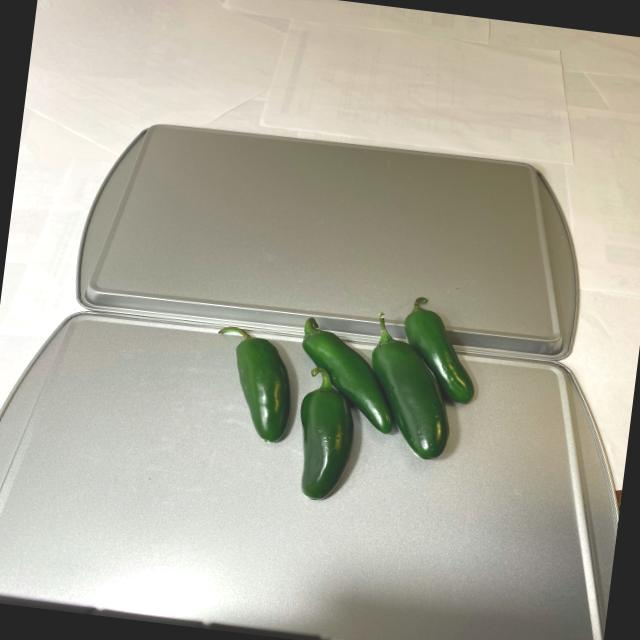chilli: (194, 268, 496, 520)
